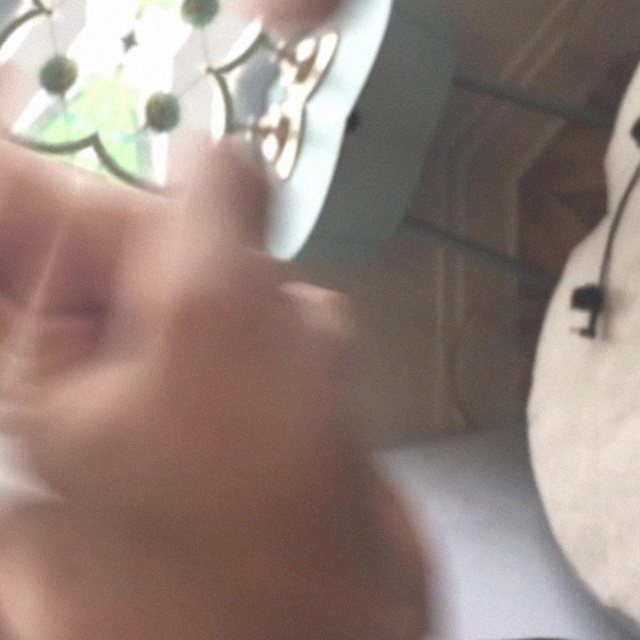Rock: (0, 0, 111, 469)
